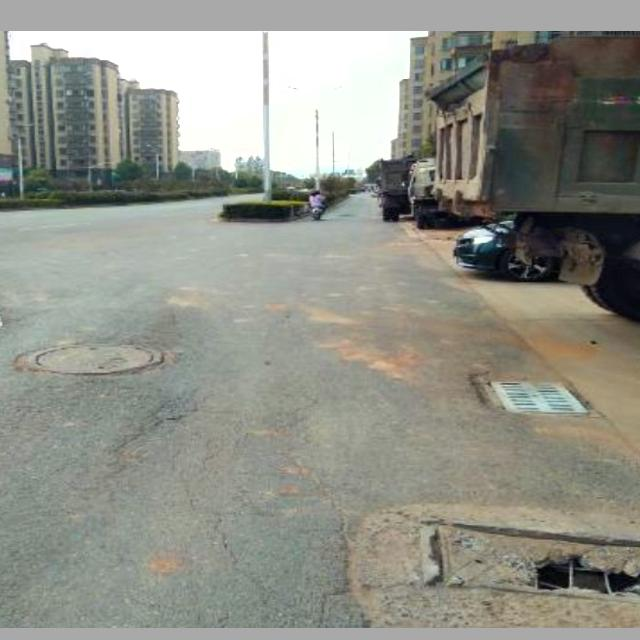broke: (415, 504, 640, 608)
